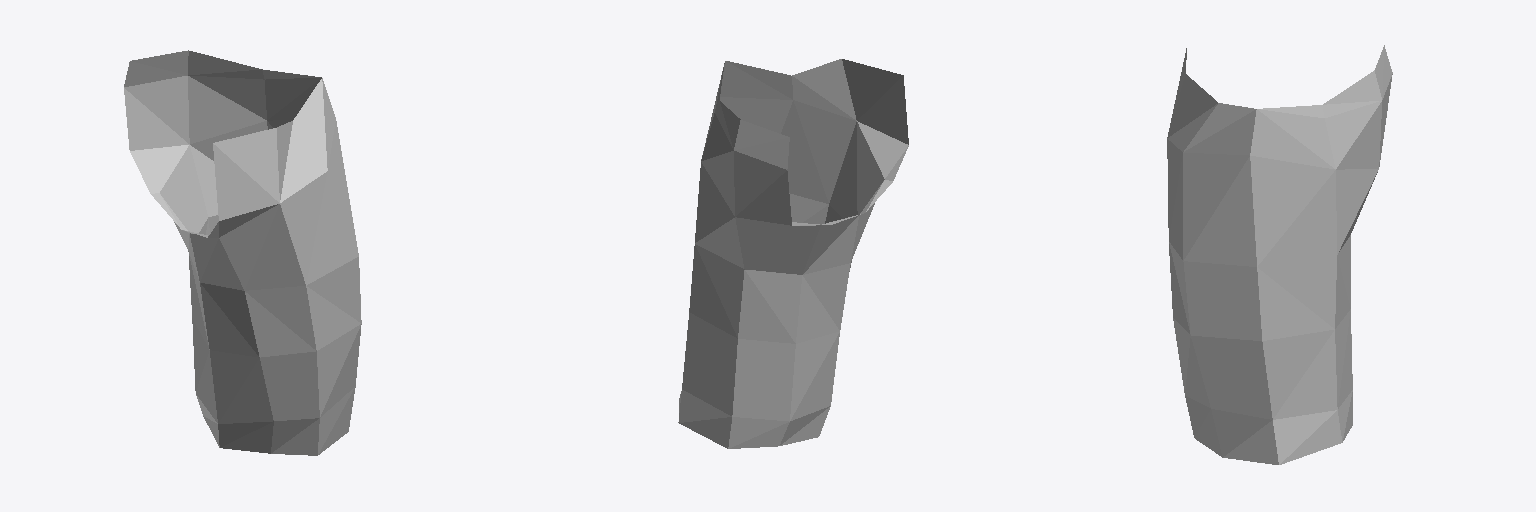
File: human_leftthigh.obj
3 views of the same model, side by side, from view 1: azimuth 30°, elevation 25°; view 2: azimuth 150°, elevation 25°; view 3: azimuth 270°, elevation 25° (orthographic).
Parts seen in each view (by area): view 1: Left_Thigh; view 2: Left_Thigh; view 3: Left_Thigh.
Boxes of the visible parts, <box> form: Left_Thigh: <box>124,50,361,455</box>; Left_Thigh: <box>678,59,908,448</box>; Left_Thigh: <box>1167,45,1392,464</box>.
Size of the model in its own units: 0.3669 by 0.6901 by 0.401.